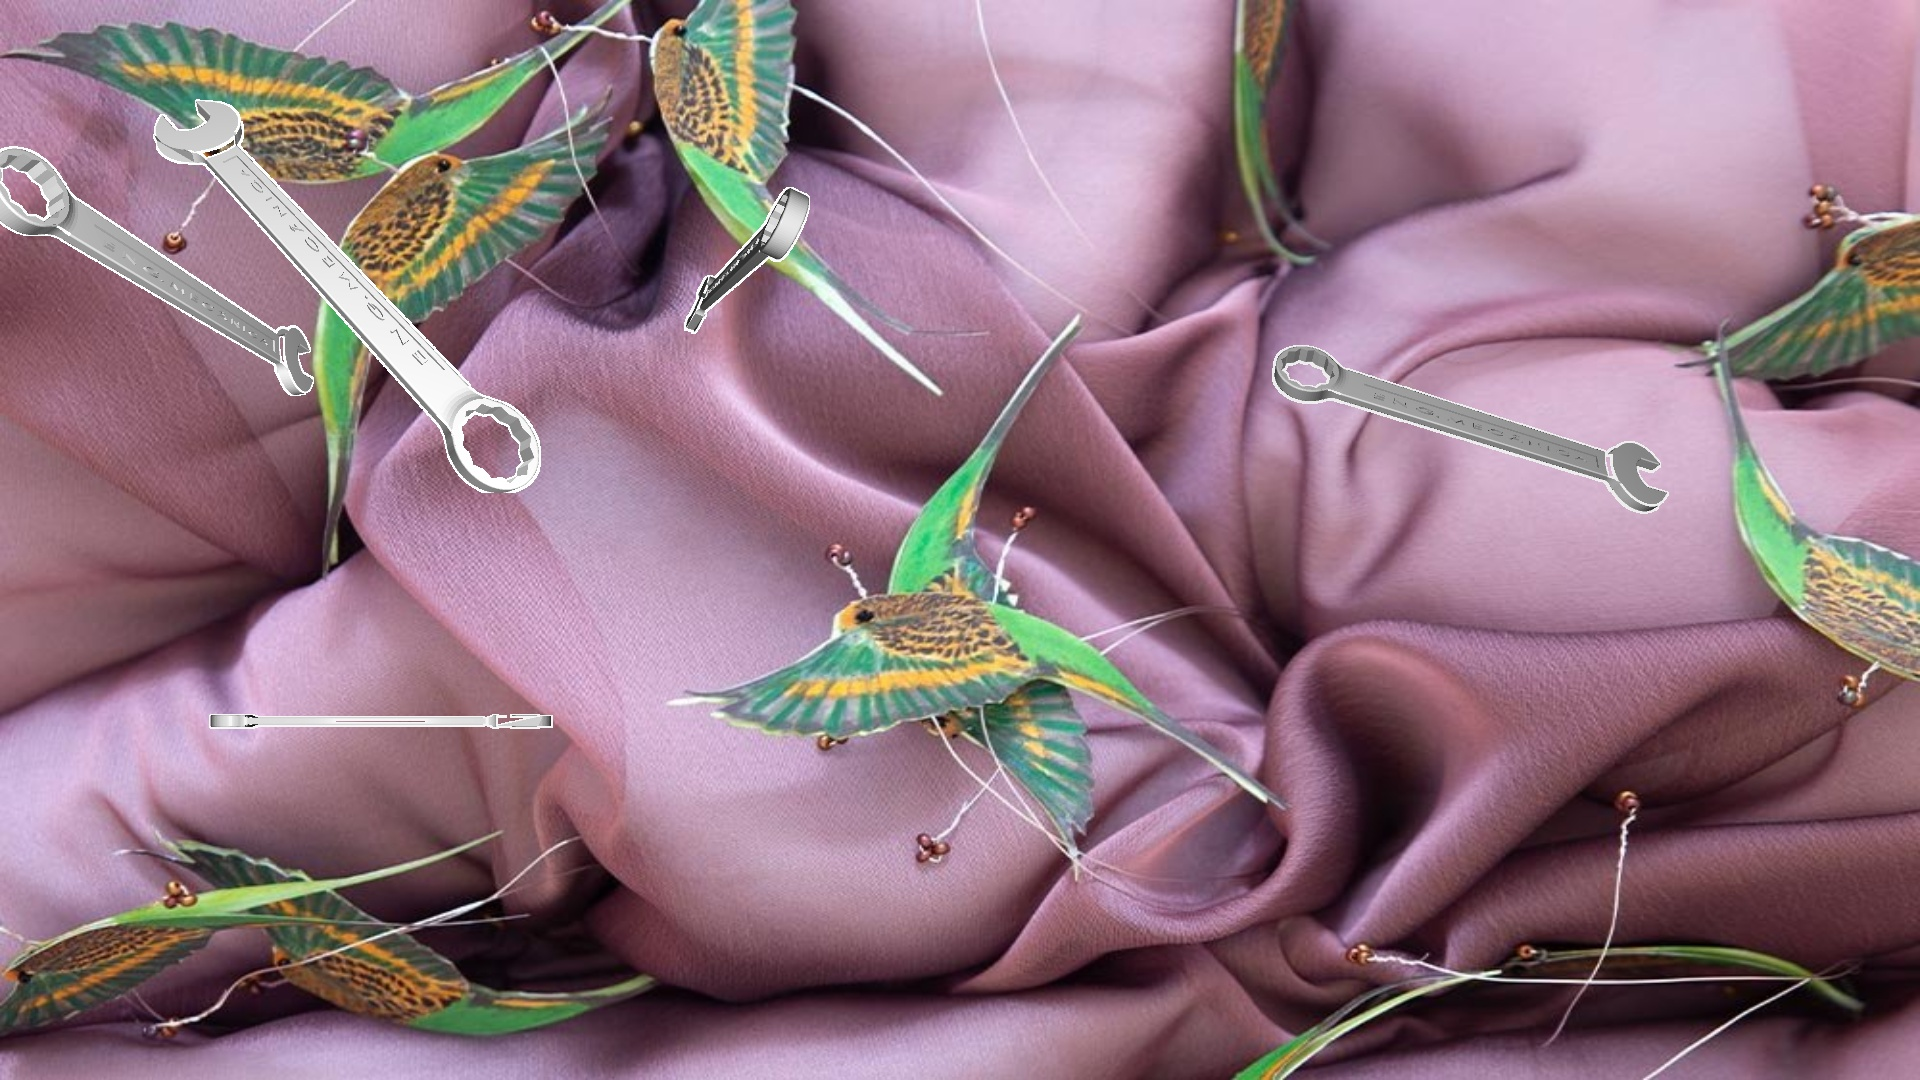Mixed Key: (153, 99, 541, 492), (0, 146, 313, 396), (1273, 345, 1668, 513), (684, 187, 808, 334), (208, 713, 553, 728)
